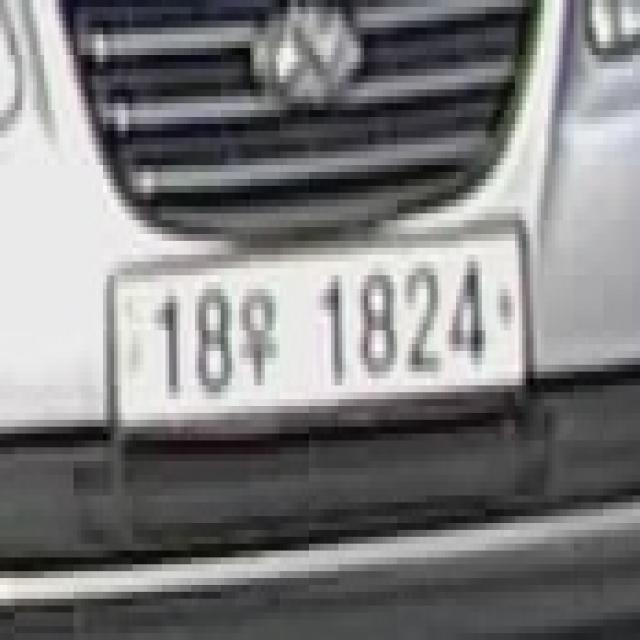1: (313, 262, 353, 399), (150, 282, 188, 413)
2: (397, 254, 445, 386)
4: (445, 248, 493, 372)
8: (192, 275, 236, 413), (353, 268, 401, 386)
license_plate: (96, 206, 544, 475)
u: (236, 282, 284, 399)
